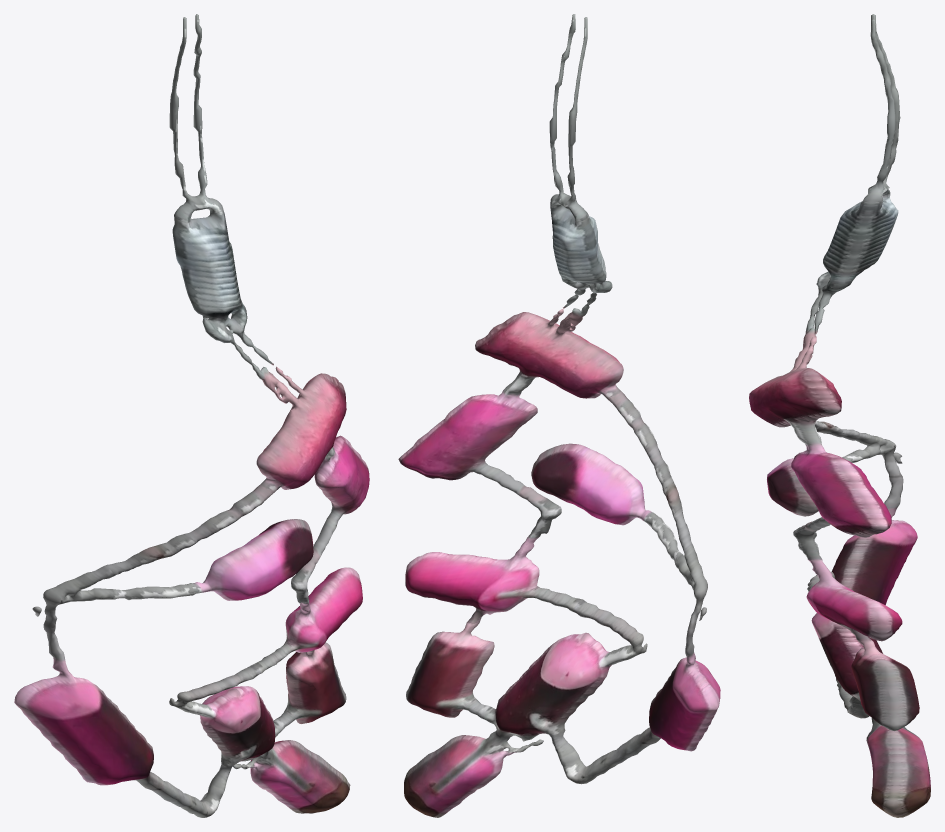
File: hy3d-mov-008.glb
3 renders of one model, left to right at view 1: azimuth 30°, elevation 25°; view 2: azimuth 150°, elevation 25°; view 3: azimuth 270°, elevation 25°, orthographic. The views are drawn at different scales.
Visible parts, largest first — view 1: world; view 2: world; view 3: world.
Part boxes in pixels (x1,y1,x2,y2): world: (14, 14, 369, 817); world: (398, 14, 720, 817); world: (749, 14, 930, 817).
Bounding box in the file's own units: 0.9043 × 2.15 × 0.4791.
Materials: 1 (1 with a texture image).
